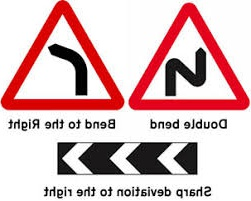Double_bend_right: (128, 3, 250, 111)
